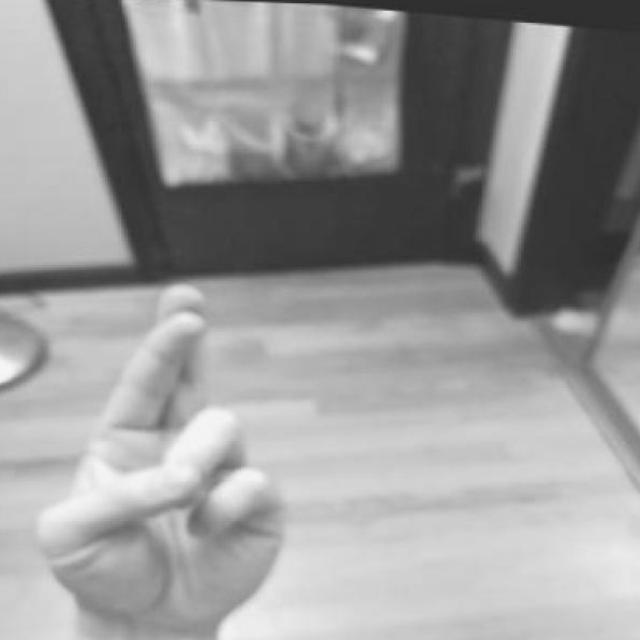R: (17, 273, 303, 640)
